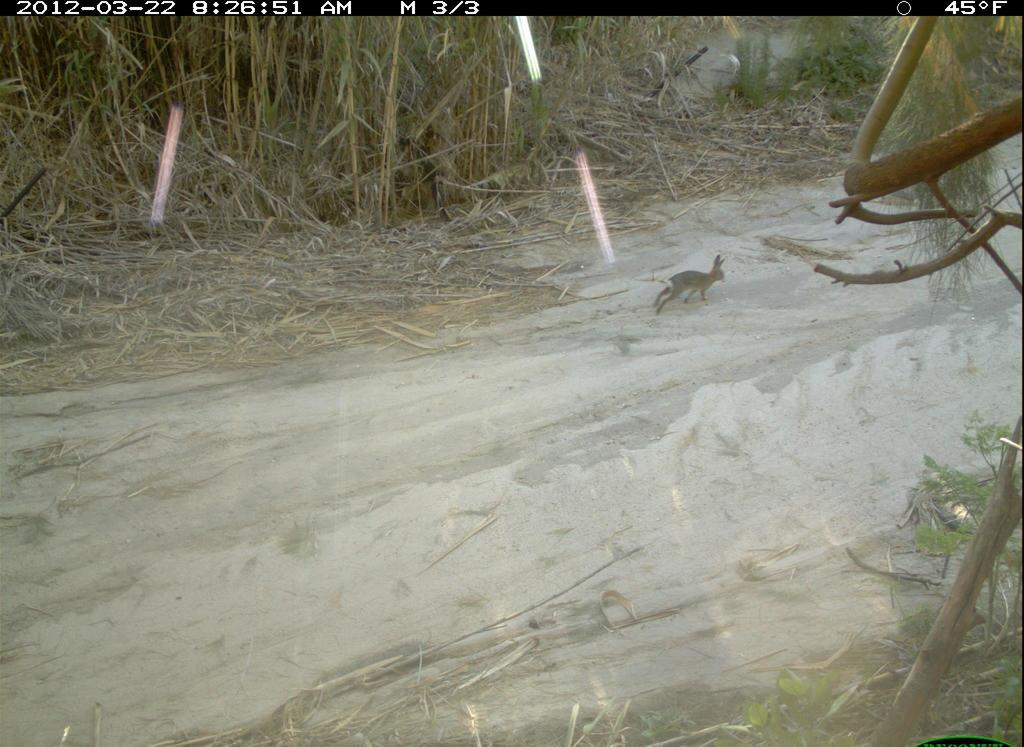rabbit: (643, 253, 742, 318)
